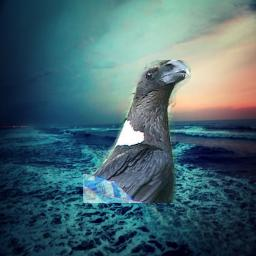Crow: (83, 60, 191, 203)
